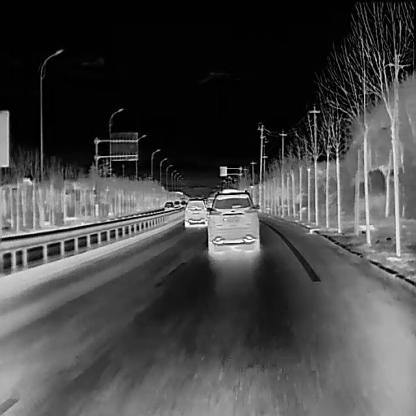car: (206, 188, 259, 258), (182, 197, 206, 226), (162, 199, 173, 212), (173, 199, 180, 211), (180, 198, 186, 207)
